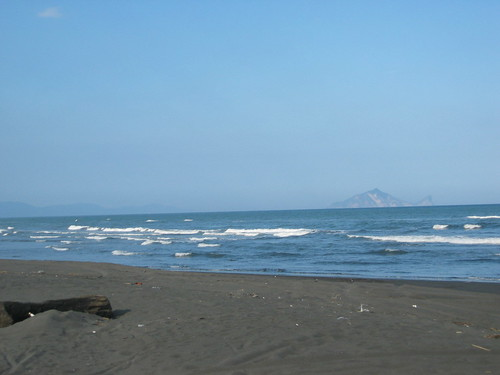turtleIsland: (327, 189, 438, 207)
